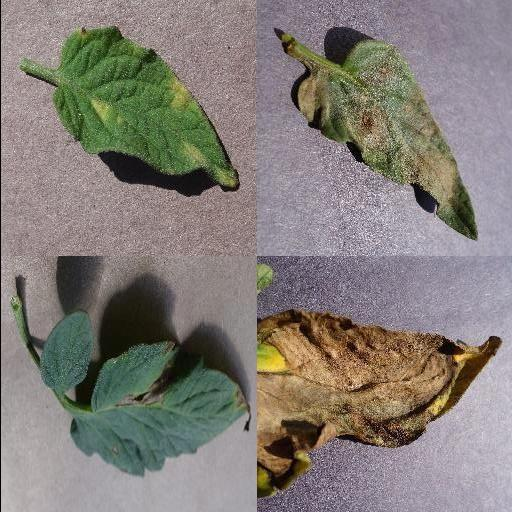Early Blight: (71, 339, 249, 479)
Healthy: (37, 311, 93, 391)
Late Blight: (256, 308, 503, 502), (296, 40, 480, 242)
Leaf Mold: (50, 26, 238, 190)
